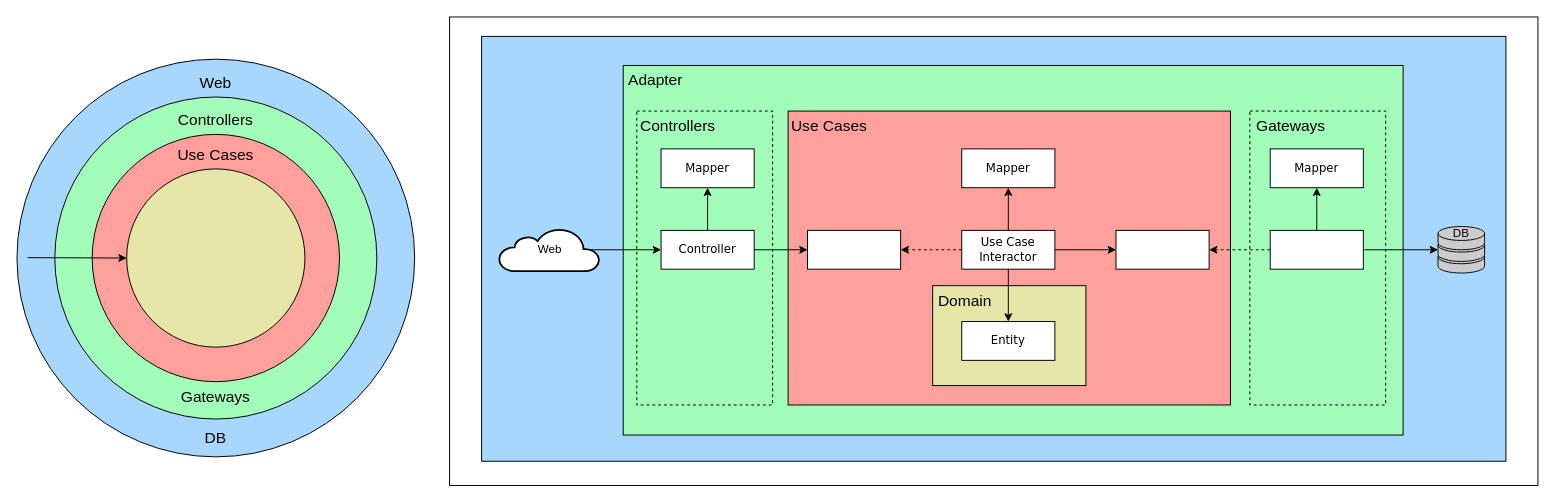
Some shapes in this 1555 by 502 pixel diagram are drawn without their labels. The centre of each missing label's shape, as x and y in pixels:
Entities: (215,257)
Repository Interactor: (1316,249)
Repository Port: (1162,249)
Use Case Port: (854,249)
